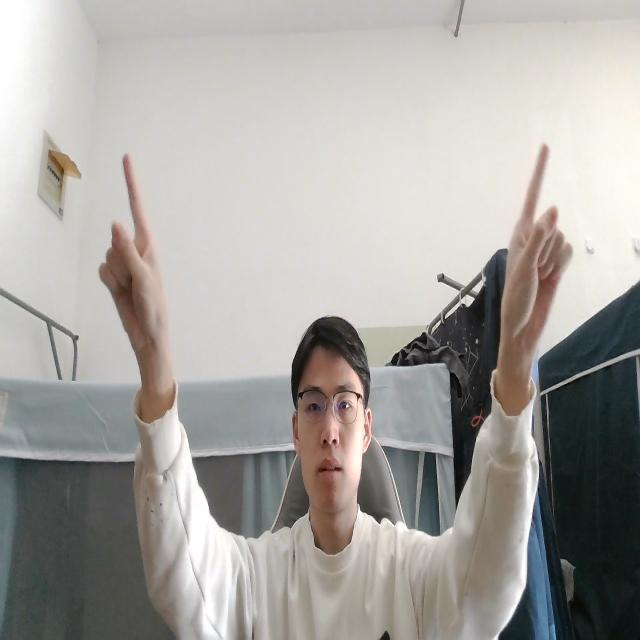one: (96, 143, 177, 390), (497, 130, 573, 375)
